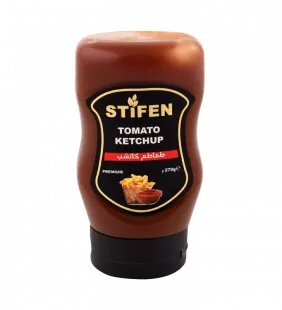STIFEN: (67, 19, 213, 285)
